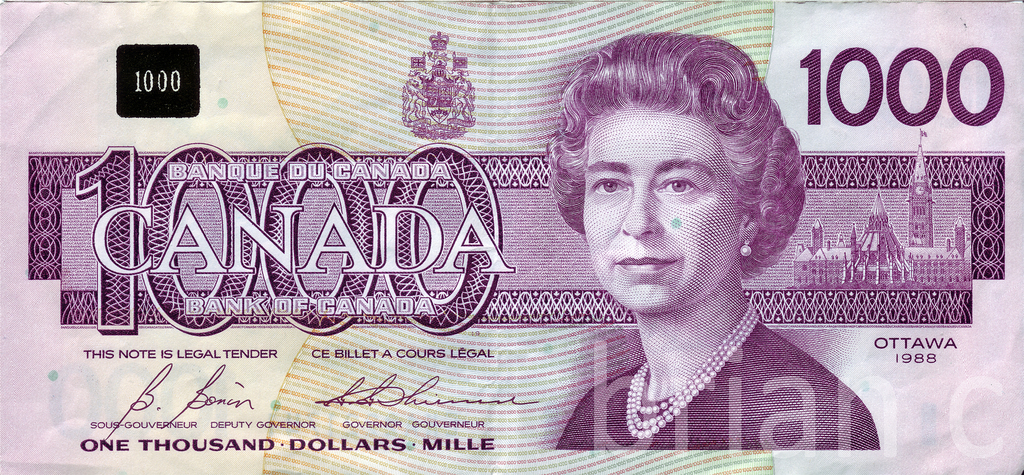Person: (545, 31, 881, 449)
